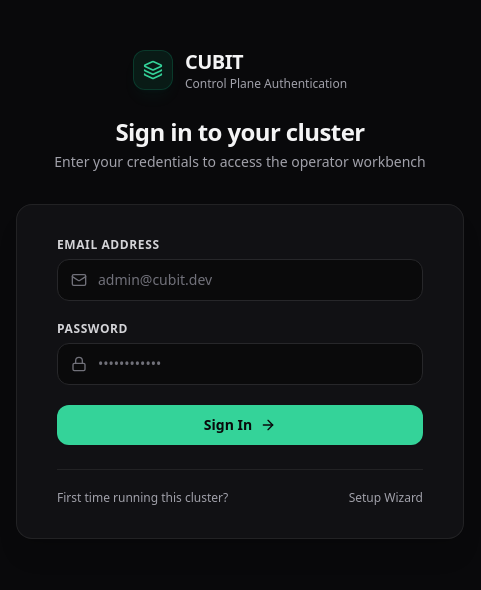
it: Given the LoginPage component › When submitting with empty credentials › Then shows validation errors without making a network request
Click the button "Sign In".
click(240, 424)  # box [57,404,423,444]
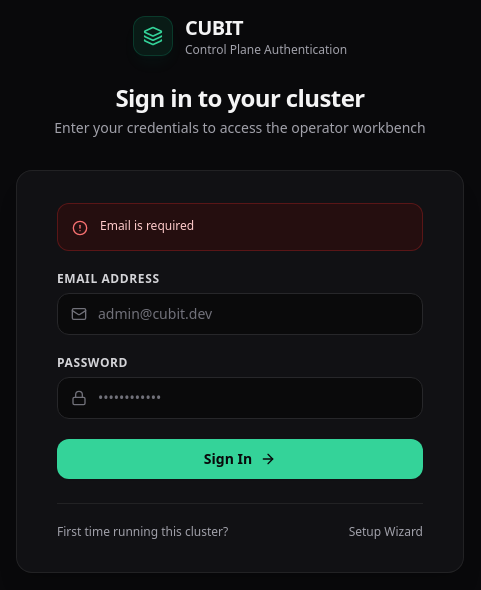
Now the text "Email is required" is shown, box [100,216,194,234]
